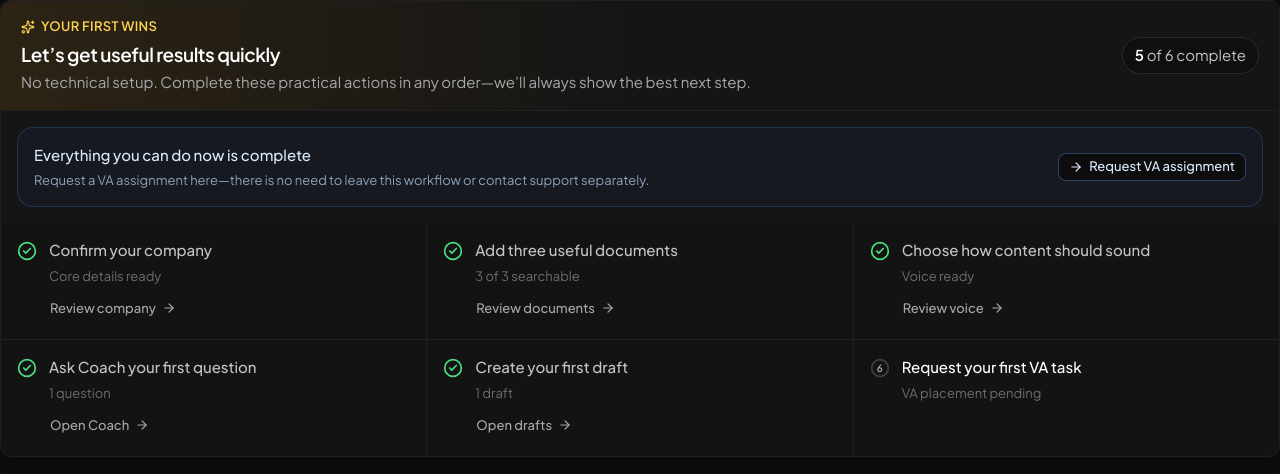
client first-success journey › offers an actionable, idempotent VA assignment request before placement
The width and height of the screenshot is (1280, 474).
Expected: the text "Everything you can do now is complete" is shown, [34,145,311,164]
Click the button "Request VA assignment" at (1152, 167), box [1058,153,1246,181]
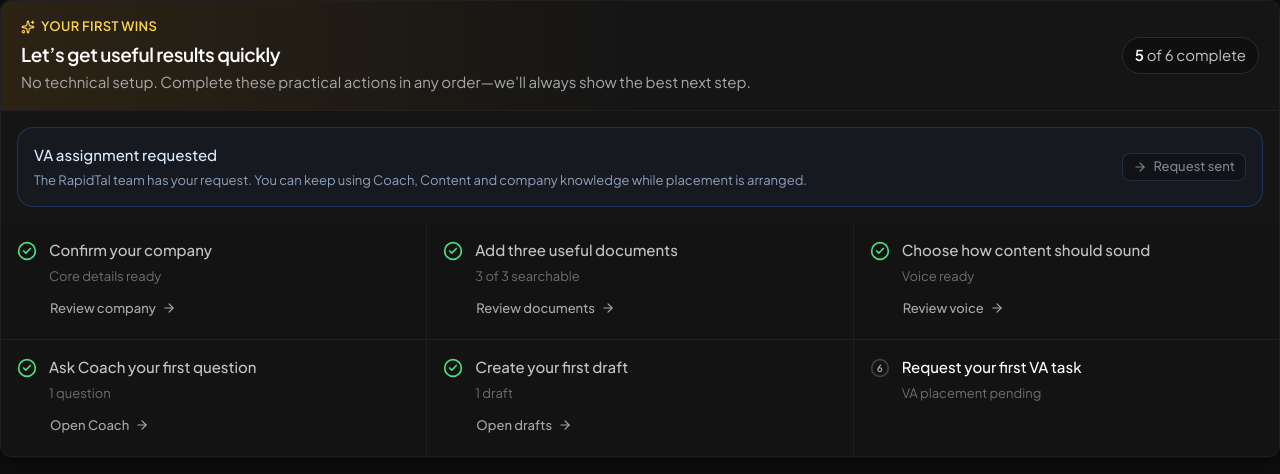
Expected: the text "VA assignment requested" is shown, [34,145,217,164]
Expected: the button "Request sent" is disabled, [1122,153,1246,181]
